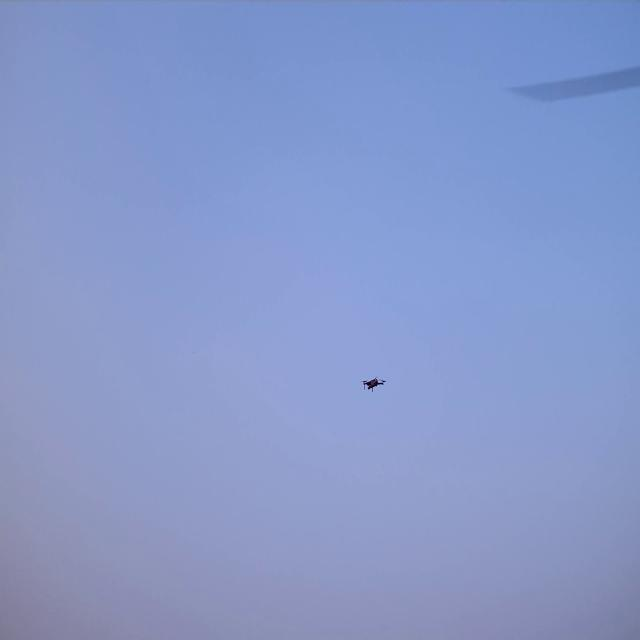UAV: (364, 378, 384, 391)
